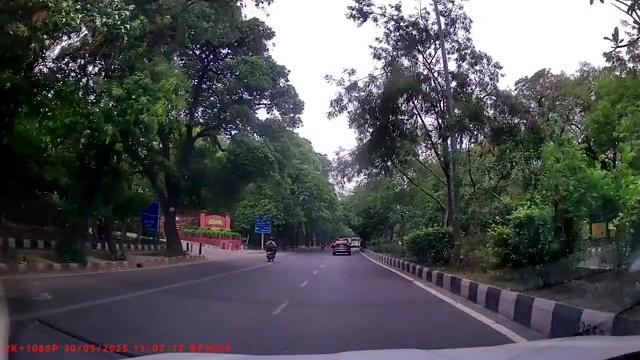motorcycle_with_helmet: (264, 236, 278, 263)
